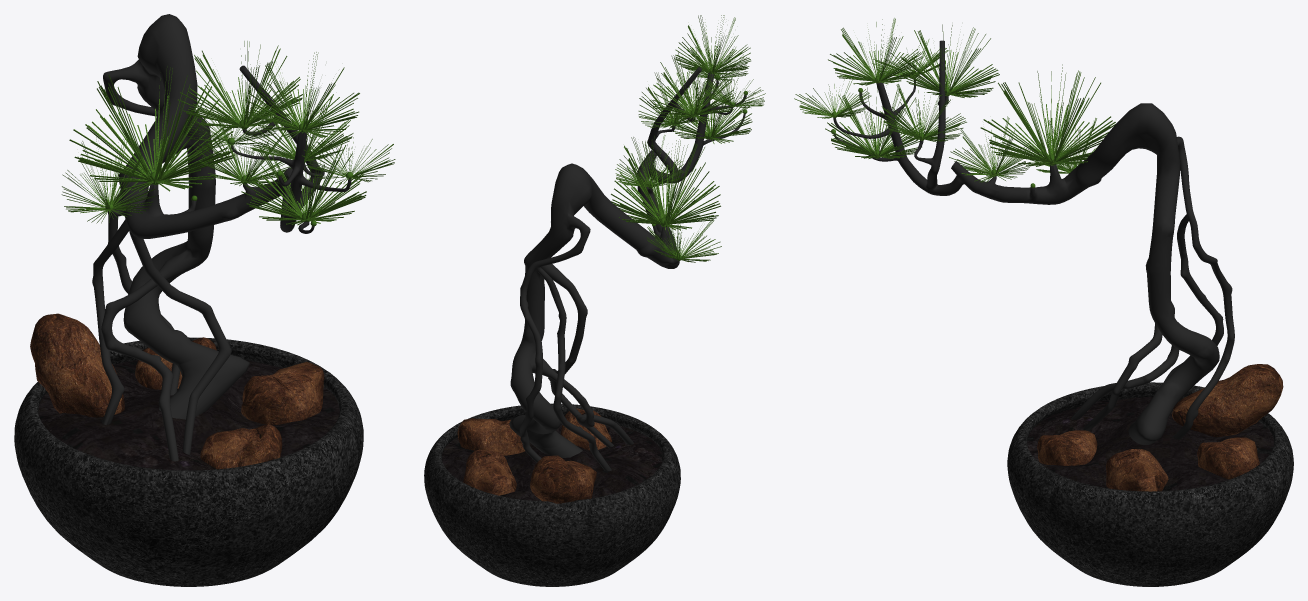
3 renders of one model, left to right at view 1: azimuth 30°, elevation 25°; view 2: azimuth 150°, elevation 25°; view 3: azimuth 270°, elevation 25°, orthographic. The views are drawn at different scales.
Parts seen in each view (by area): view 1: Line102, Line014, Line112, Circle001, Plane007, Plane009, Plane010, Plane008; view 2: Line102, Line014, Line112, Circle001, Plane007, Plane009, Plane008, Plane010; view 3: Line102, Line014, Line112, Circle001, Plane007, Plane009, Plane008, Plane010.
Part boxes in pixels (box(x1,y1,x2,y2)): Line102: box(14, 337, 363, 586); Line014: box(92, 14, 351, 461); Line112: box(61, 41, 395, 226); Circle001: box(38, 360, 339, 470); Plane007: box(30, 313, 124, 417); Plane009: box(241, 361, 324, 424); Plane010: box(200, 424, 282, 469); Plane008: box(135, 337, 216, 389); Line102: box(424, 403, 680, 586); Line014: box(509, 67, 746, 471); Line112: box(611, 15, 765, 262); Circle001: box(442, 415, 662, 500); Plane007: box(530, 455, 596, 503); Plane009: box(457, 418, 524, 455); Plane008: box(463, 449, 516, 495); Plane010: box(560, 408, 612, 450); Line102: box(1007, 382, 1293, 586); Line014: box(833, 40, 1234, 444); Line112: box(794, 18, 1115, 187); Circle001: box(1027, 396, 1273, 491); Plane007: box(1172, 364, 1283, 437); Plane009: box(1106, 449, 1168, 491); Plane008: box(1197, 437, 1259, 479); Plane010: box(1037, 430, 1097, 465).
Bounding box in the file's own units: 7656 × 13924 × 12442.
5 materials, 4 textured.
